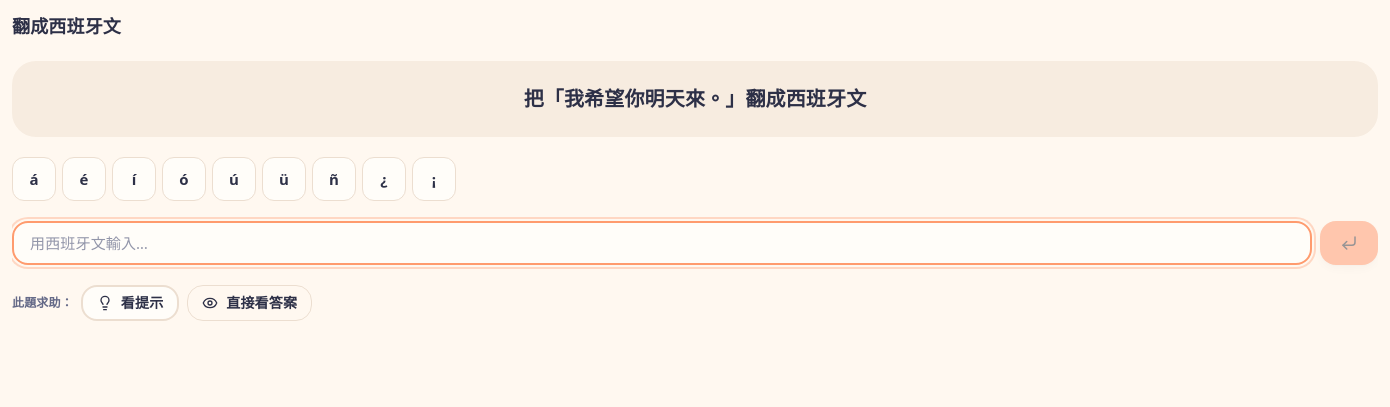
Scenario: 翻譯題的求助階梯 › 按了「看提示」出現骨架，而且骨架不是答案
The width and height of the screenshot is (1390, 407).
Click the button "看提示": [130, 303] box [81,285,179,321]
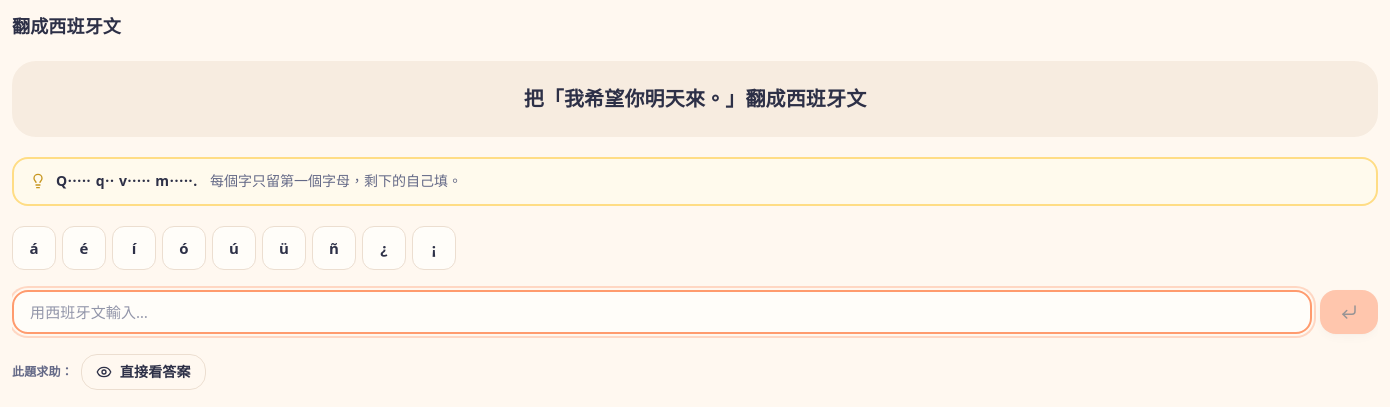
Expected: the field is enabled, [12,290,1312,334]
Expected: the button "看提示" is gone
